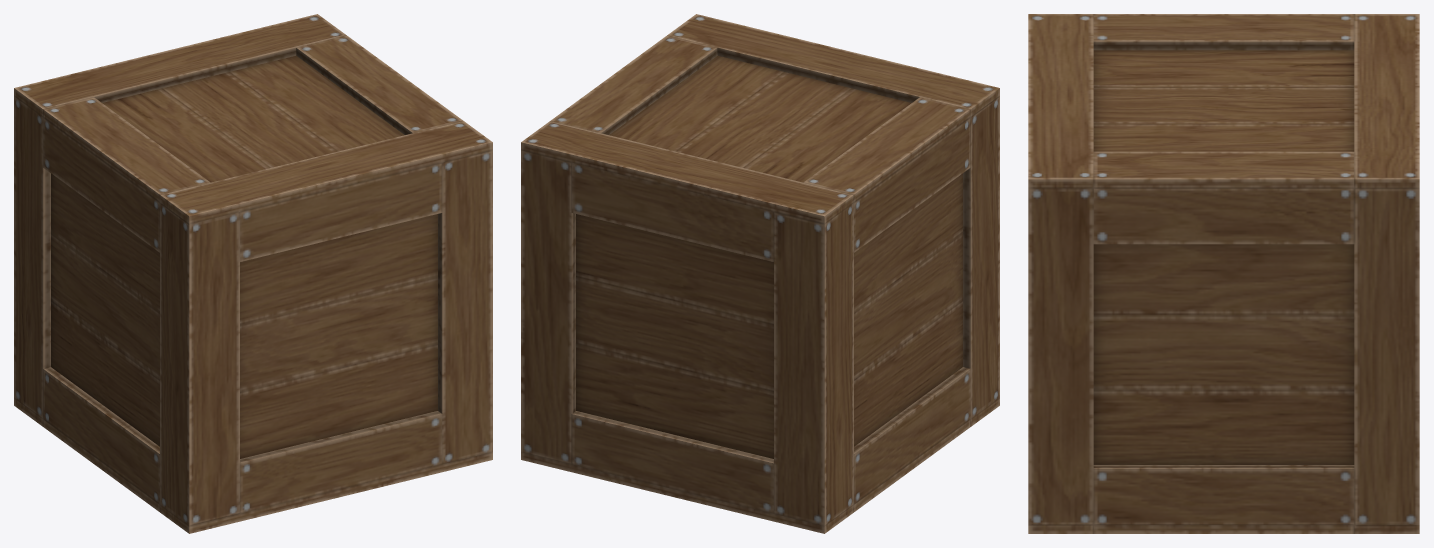
File: sb_obj_outdoor043WoodBox.fbx
3 renders of one model, left to right at view 1: azimuth 30°, elevation 25°; view 2: azimuth 150°, elevation 25°; view 3: azimuth 270°, elevation 25°, orthographic. The views are drawn at different scales.
Visible parts, largest first — view 1: sb_obj_outdoor043WoodBox; view 2: sb_obj_outdoor043WoodBox; view 3: sb_obj_outdoor043WoodBox.
Boxes of the visible parts, box(x1,y1,x2,y2) form: sb_obj_outdoor043WoodBox: box(14, 14, 492, 533); sb_obj_outdoor043WoodBox: box(521, 14, 999, 533); sb_obj_outdoor043WoodBox: box(1028, 14, 1419, 533).
Size of the model in its own units: 1 by 1 by 1.
